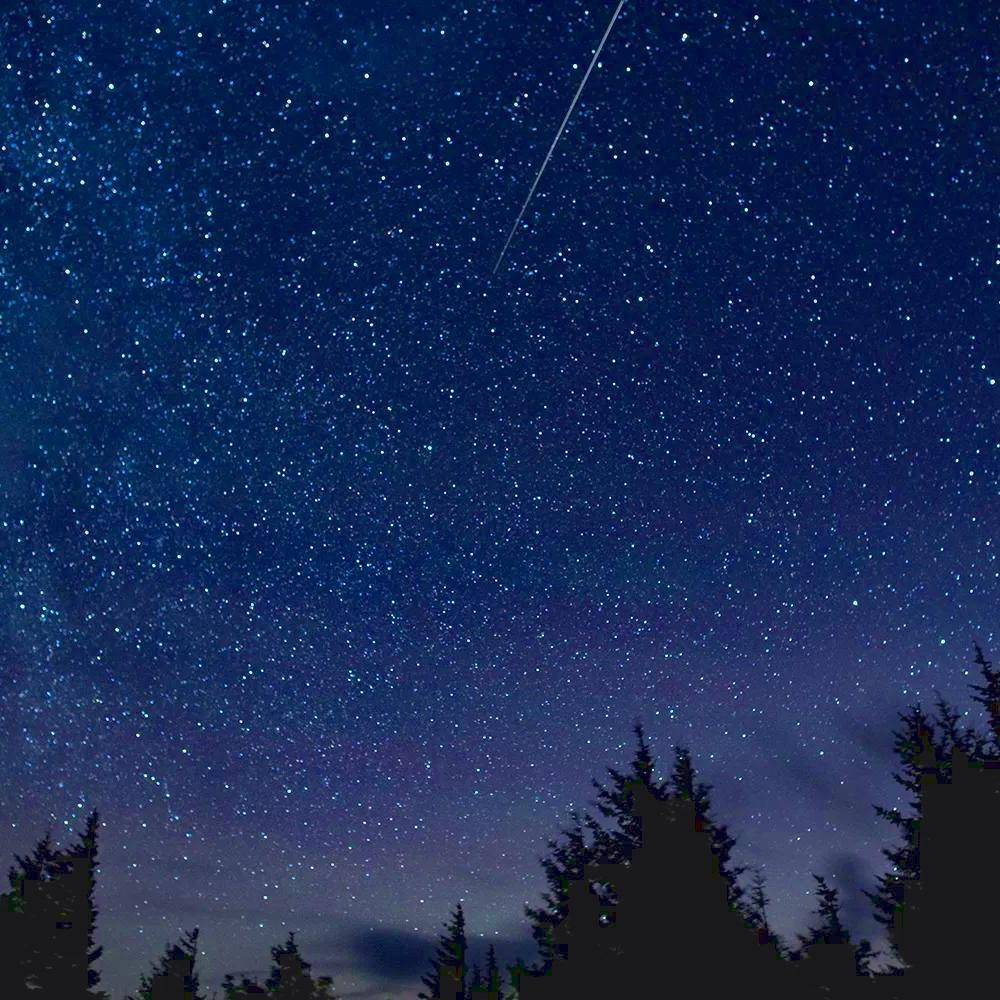meteorite: (495, 0, 615, 262)
